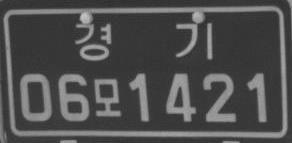0: (19, 72, 53, 122)
1: (243, 71, 272, 122), (125, 72, 154, 122)
2: (202, 71, 237, 124)
4: (164, 72, 197, 122)
6: (57, 72, 91, 122)
경기_D: (74, 21, 214, 63)
모: (93, 77, 123, 117)
